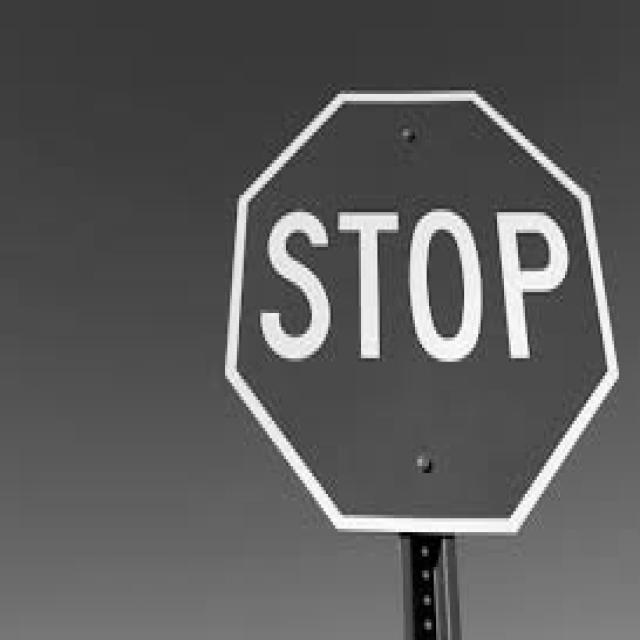stop sign: (230, 84, 620, 538)
